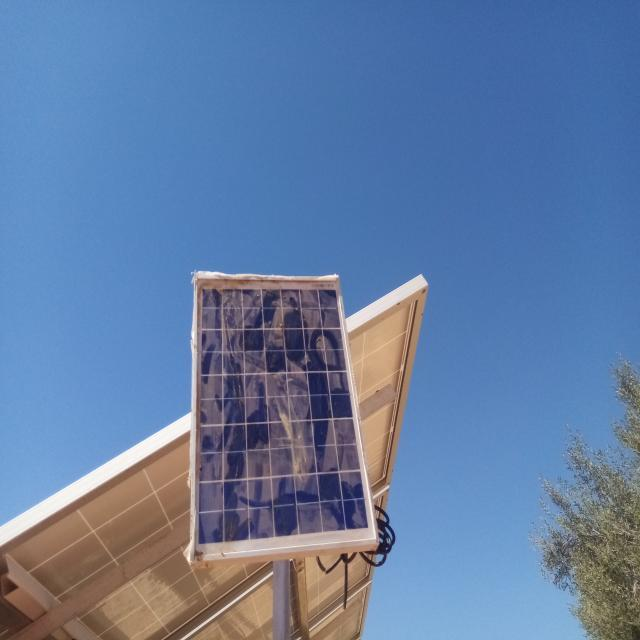faulty: (193, 278, 378, 559)
